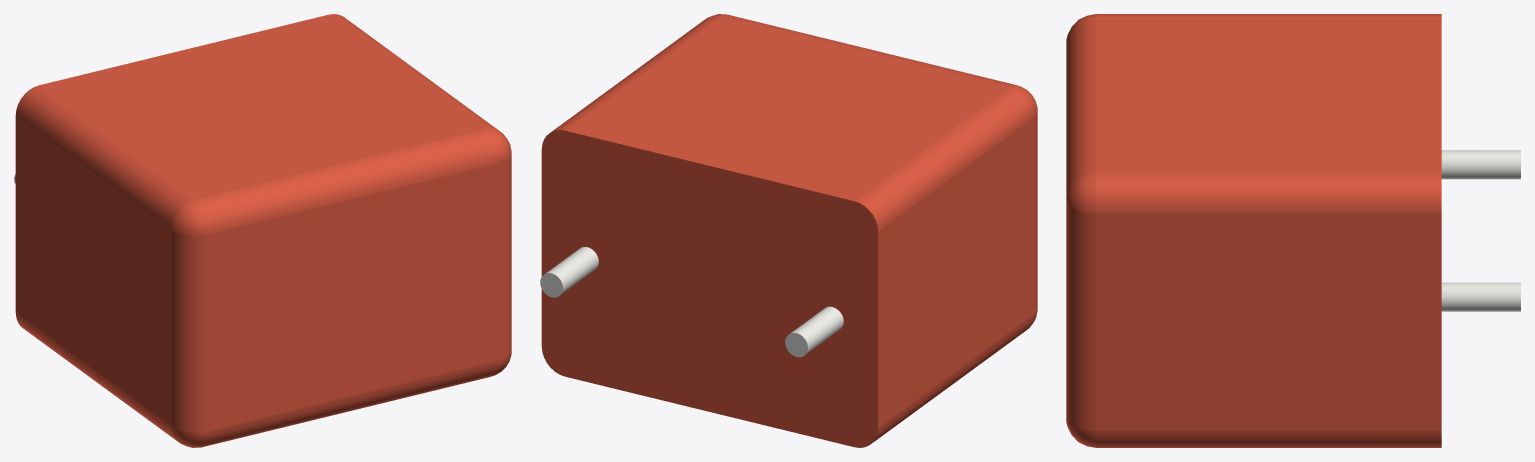
File: C_Rect_L10.3mm_W7.2mm_P7.50mm_MKS4.glb
3 renders of one model, left to right at view 1: azimuth 30°, elevation 25°; view 2: azimuth 150°, elevation 25°; view 3: azimuth 270°, elevation 25°, orthographic. The views are drawn at different scales.
Parts seen in each view (by area): view 1: Shape_IndexedFaceSet.007, Shape_IndexedFaceSet.009, Shape_IndexedFaceSet, Shape_IndexedFaceSet.016, Shape_IndexedFaceSet.004, Shape_IndexedFaceSet.002, Shape_IndexedFaceSet.015, Shape_IndexedFaceSet.017, Shape_IndexedFaceSet.001, Shape_IndexedFaceSet.011, Shape_IndexedFaceSet.008, Shape_IndexedFaceSet.005; view 2: Shape_IndexedFaceSet.003, Shape_IndexedFaceSet.009, Shape_IndexedFaceSet, Shape_IndexedFaceSet.004, Shape_IndexedFaceSet.001, Shape_IndexedFaceSet.011, Shape_IndexedFaceSet.013, Shape_IndexedFaceSet.014, Shape_IndexedFaceSet.016, Shape_IndexedFaceSet.002; view 3: Shape_IndexedFaceSet.012, Shape_IndexedFaceSet.009, Shape_IndexedFaceSet.011, Shape_IndexedFaceSet.017, Shape_IndexedFaceSet.010, Shape_IndexedFaceSet.016, Shape_IndexedFaceSet.013, Shape_IndexedFaceSet.014, Shape_IndexedFaceSet.004, Shape_IndexedFaceSet.019.
Boxes of the visible parts, x1=… form: Shape_IndexedFaceSet.007: x1=209, y1=163, x2=498, y2=430; Shape_IndexedFaceSet.009: x1=39, y1=14, x2=483, y2=199; Shape_IndexedFaceSet: x1=15, y1=116, x2=171, y2=426; Shape_IndexedFaceSet.016: x1=195, y1=129, x2=498, y2=233; Shape_IndexedFaceSet.004: x1=15, y1=85, x2=194, y2=229; Shape_IndexedFaceSet.002: x1=172, y1=230, x2=208, y2=432; Shape_IndexedFaceSet.015: x1=202, y1=360, x2=498, y2=447; Shape_IndexedFaceSet.017: x1=498, y1=155, x2=511, y2=360; Shape_IndexedFaceSet.001: x1=16, y1=313, x2=176, y2=440; Shape_IndexedFaceSet.011: x1=329, y1=14, x2=498, y2=130; Shape_IndexedFaceSet.008: x1=172, y1=199, x2=208, y2=235; Shape_IndexedFaceSet.005: x1=172, y1=427, x2=208, y2=447; Shape_IndexedFaceSet.003: x1=541, y1=130, x2=877, y2=447; Shape_IndexedFaceSet.009: x1=566, y1=16, x2=1010, y2=201; Shape_IndexedFaceSet: x1=878, y1=117, x2=1034, y2=428; Shape_IndexedFaceSet.004: x1=855, y1=87, x2=1034, y2=231; Shape_IndexedFaceSet.001: x1=873, y1=314, x2=1034, y2=442; Shape_IndexedFaceSet.011: x1=552, y1=15, x2=720, y2=131; Shape_IndexedFaceSet.013: x1=790, y1=306, x2=843, y2=353; Shape_IndexedFaceSet.014: x1=545, y1=247, x2=598, y2=294; Shape_IndexedFaceSet.016: x1=722, y1=14, x2=1015, y2=86; Shape_IndexedFaceSet.002: x1=1034, y1=113, x2=1037, y2=313; Shape_IndexedFaceSet.012: x1=1096, y1=213, x2=1441, y2=430; Shape_IndexedFaceSet.009: x1=1096, y1=16, x2=1441, y2=172; Shape_IndexedFaceSet.011: x1=1096, y1=173, x2=1441, y2=212; Shape_IndexedFaceSet.017: x1=1066, y1=201, x2=1095, y2=430; Shape_IndexedFaceSet.010: x1=1096, y1=430, x2=1441, y2=447; Shape_IndexedFaceSet.016: x1=1066, y1=17, x2=1095, y2=196; Shape_IndexedFaceSet.013: x1=1441, y1=150, x2=1520, y2=179; Shape_IndexedFaceSet.014: x1=1441, y1=282, x2=1520, y2=311; Shape_IndexedFaceSet.004: x1=1096, y1=14, x2=1441, y2=16; Shape_IndexedFaceSet.019: x1=1066, y1=173, x2=1095, y2=212.
Size of the model in its own units: 4.05 by 2.83 by 4.29.
